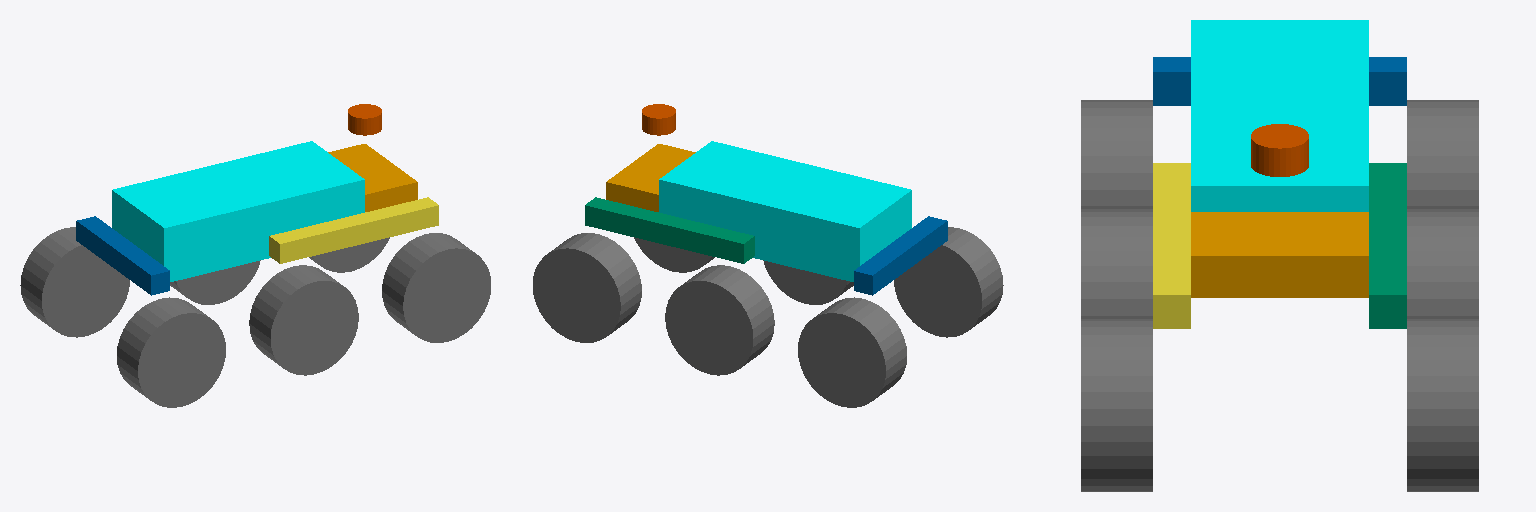
The robot description file, URDF, robot "rover":
<?xml version="1.0" ?>
<!-- =================================================================================== -->
<!-- |    This document was autogenerated by xacro from rover_description.urdf         | -->
<!-- |    EDITING THIS FILE BY HAND IS NOT RECOMMENDED                                 | -->
<!-- =================================================================================== -->
<robot name="rover">
  <!-- Robot Base -->
  <link name="base_link">
    <origin rpy="0.0 0.0 0.0" xyz="0.0 0.0 0.0"/>
    <visual>
      <origin rpy="0.0 0.0 0.0" xyz="-0.06 0.0 0.0"/>
      <geometry>
        <box size="0.68 0.31 0.18"/>
      </geometry>
      <material name="Cyan">
        <color rgba="0 1.0 1.0 1.0"/>
      </material>
    </visual>
    <visual>
      <origin rpy="0.0 0.0 0.0" xyz="0.37 0.0 0.0"/>
      <geometry>
        <box size="0.18 0.31 0.08"/>
      </geometry>
    </visual>
    <collision>
      <origin rpy="0.0 0.0 0.0" xyz="-0.06 0.0 0.0"/>
      <geometry>
        <box size="0.68 0.31 0.18"/>
      </geometry>
    </collision>
    <collision>
      <origin rpy="0.0 0.0 0.0" xyz="0.37 0.0 0.0"/>
      <geometry>
        <box size="0.18 0.31 0.08"/>
      </geometry>
    </collision>
    <inertial>
      <origin rpy="1.5707963267948966 0 1.5707963267948966" xyz="-0.06 0 0"/>
      <mass value="15"/>
      <inertia ixx="0.16062500000000002" ixy="0.0" ixz="0.0" iyy="0.6981250000000001" iyz="0.0" izz="0.6185"/>
    </inertial>
    <inertial>
      <origin rpy="1.5707963267948966 0 1.5707963267948966" xyz="0.37 0 0"/>
      <mass value="1"/>
      <inertia ixx="0.008541666666666666" ixy="0.0" ixz="0.0" iyy="0.010708333333333334" iyz="0.0" izz="0.0032333333333333333"/>
    </inertial>
  </link>
  <!-- Robot Footprint -->
  <link name="base_footprint"/>
  <joint name="base_joint" type="fixed">
    <parent link="base_footprint"/>
    <child link="base_link"/>
    <origin rpy="0 0 0" xyz="0.0 0.0 0.4"/>
  </joint>
  <link name="bogey_l_link">
    <visual>
      <origin rpy="0.0 0.0 0.0" xyz="0.0 0.0 0.0"/>
      <geometry>
        <box size="0.54 0.065 0.065"/>
      </geometry>
    </visual>
    <collision>
      <origin rpy="0.0 0.0 0.0" xyz="0.0 0.0 0.0"/>
      <geometry>
        <box size="0.54 0.065 0.065"/>
      </geometry>
    </collision>
    <inertial>
      <origin rpy="1.5707963267948966 0 1.5707963267948966" xyz="0 0 0"/>
      <mass value="1"/>
      <inertia ixx="0.02465208333333333" ixy="0.0" ixz="0.0" iyy="0.02465208333333333" iyz="0.0" izz="0.0007041666666666667"/>
    </inertial>
  </link>
  <joint name="bogey_l_joint" type="fixed">
    <!-- <limit effort="1000.0" lower="-0.5" upper="0.5" velocity="0.5"/> -->
    <parent link="base_link"/>
    <child link="bogey_l_link"/>
    <origin rpy="0.0 0.0 0.0" xyz="0.225 0.1875 -0.05"/>
    <axis xyz="0 1 0"/>
  </joint>
  <link name="bogey_r_link">
    <visual>
      <origin rpy="0.0 0.0 0.0" xyz="0.0 0.0 0.0"/>
      <geometry>
        <box size="0.54 0.065 0.065"/>
      </geometry>
    </visual>
    <collision>
      <origin rpy="0.0 0.0 0.0" xyz="0.0 0.0 0.0"/>
      <geometry>
        <box size="0.54 0.065 0.065"/>
      </geometry>
    </collision>
    <inertial>
      <origin rpy="1.5707963267948966 0 1.5707963267948966" xyz="0 0 0"/>
      <mass value="1"/>
      <inertia ixx="0.02465208333333333" ixy="0.0" ixz="0.0" iyy="0.02465208333333333" iyz="0.0" izz="0.0007041666666666667"/>
    </inertial>
  </link>
  <joint name="bogey_r_joint" type="fixed">
    <!-- <limit effort="1000.0" lower="-0.5" upper="0.5" velocity="0.5"/> -->
    <parent link="base_link"/>
    <child link="bogey_r_link"/>
    <origin rpy="0.0 0.0 0.0" xyz="0.225 -0.1875 -0.05"/>
    <axis xyz="0 1 0"/>
  </joint>
  <link name="bogey_b_link">
    <visual>
      <origin rpy="0.0 0.0 0.0" xyz="0.0 0.0 0.0"/>
      <geometry>
        <box size="0.065 0.44 0.065"/>
      </geometry>
    </visual>
    <collision>
      <origin rpy="0.0 0.0 0.0" xyz="0.0 0.0 0.0"/>
      <geometry>
        <box size="0.065 0.375 0.065"/>
      </geometry>
    </collision>
    <inertial>
      <origin rpy="1.5707963267948966 0 1.5707963267948966" xyz="0 0 0"/>
      <mass value="1"/>
      <inertia ixx="0.0007041666666666667" ixy="0.0" ixz="0.0" iyy="0.016485416666666666" iyz="0.0" izz="0.016485416666666666"/>
    </inertial>
  </link>
  <joint name="bogey_b_joint" type="fixed">
    <parent link="base_link"/>
    <child link="bogey_b_link"/>
    <origin rpy="0.0 0.0 0.0" xyz="-0.45 0.0 -0.05"/>
  </joint>
  <link name="wheel_l_f_link">
    <visual>
      <origin rpy="1.5707963267948966 0 0" xyz="0 0 0"/>
      <geometry>
        <cylinder length="0.125" radius="0.15"/>
      </geometry>
      <material name="Gray">
        <color rgba="0.5 0.5 0.5 1.0"/>
      </material>
    </visual>
    <collision>
      <origin rpy="1.5707963267948966 0 0" xyz="0 0 0"/>
      <geometry>
        <cylinder length="0.125" radius="0.15"/>
      </geometry>
    </collision>
    <inertial>
      <origin rpy="1.5707963267948966 0 0" xyz="0 0 0"/>
      <mass value="1"/>
      <inertia ixx="0.006927083333333332" ixy="0" ixz="0" iyy="0.006927083333333332" iyz="0" izz="0.01125"/>
    </inertial>
  </link>
  <joint name="wheel_l_f_joint" type="continuous">
    <parent link="bogey_l_link"/>
    <child link="wheel_l_f_link"/>
    <origin rpy="0 0 0" xyz="0.225 0.095 -0.2"/>
    <axis xyz="0 1 0"/>
  </joint>
  <link name="wheel_l_m_link">
    <visual>
      <origin rpy="1.5707963267948966 0 0" xyz="0 0 0"/>
      <geometry>
        <cylinder length="0.125" radius="0.15"/>
      </geometry>
      <material name="Gray">
        <color rgba="0.5 0.5 0.5 1.0"/>
      </material>
    </visual>
    <collision>
      <origin rpy="1.5707963267948966 0 0" xyz="0 0 0"/>
      <geometry>
        <cylinder length="0.125" radius="0.15"/>
      </geometry>
    </collision>
    <inertial>
      <origin rpy="1.5707963267948966 0 0" xyz="0 0 0"/>
      <mass value="1"/>
      <inertia ixx="0.006927083333333332" ixy="0" ixz="0" iyy="0.006927083333333332" iyz="0" izz="0.01125"/>
    </inertial>
  </link>
  <joint name="wheel_l_m_joint" type="continuous">
    <parent link="bogey_l_link"/>
    <child link="wheel_l_m_link"/>
    <origin rpy="0 0 0" xyz="-0.225 0.095 -0.2"/>
    <axis xyz="0 1 0"/>
  </joint>
  <link name="wheel_l_b_link">
    <visual>
      <origin rpy="1.5707963267948966 0 0" xyz="0 0 0"/>
      <geometry>
        <cylinder length="0.125" radius="0.15"/>
      </geometry>
      <material name="Gray">
        <color rgba="0.5 0.5 0.5 1.0"/>
      </material>
    </visual>
    <collision>
      <origin rpy="1.5707963267948966 0 0" xyz="0 0 0"/>
      <geometry>
        <cylinder length="0.125" radius="0.15"/>
      </geometry>
    </collision>
    <inertial>
      <origin rpy="1.5707963267948966 0 0" xyz="0 0 0"/>
      <mass value="1"/>
      <inertia ixx="0.006927083333333332" ixy="0" ixz="0" iyy="0.006927083333333332" iyz="0" izz="0.01125"/>
    </inertial>
  </link>
  <joint name="wheel_l_b_joint" type="continuous">
    <parent link="bogey_b_link"/>
    <child link="wheel_l_b_link"/>
    <origin rpy="0 0 0" xyz="0 0.2825 -0.2"/>
    <axis xyz="0 1 0"/>
  </joint>
  <link name="wheel_r_f_link">
    <visual>
      <origin rpy="1.5707963267948966 0 0" xyz="0 0 0"/>
      <geometry>
        <cylinder length="0.125" radius="0.15"/>
      </geometry>
      <material name="Gray">
        <color rgba="0.5 0.5 0.5 1.0"/>
      </material>
    </visual>
    <collision>
      <origin rpy="1.5707963267948966 0 0" xyz="0 0 0"/>
      <geometry>
        <cylinder length="0.125" radius="0.15"/>
      </geometry>
    </collision>
    <inertial>
      <origin rpy="1.5707963267948966 0 0" xyz="0 0 0"/>
      <mass value="1"/>
      <inertia ixx="0.006927083333333332" ixy="0" ixz="0" iyy="0.006927083333333332" iyz="0" izz="0.01125"/>
    </inertial>
  </link>
  <joint name="wheel_r_f_joint" type="continuous">
    <parent link="bogey_r_link"/>
    <child link="wheel_r_f_link"/>
    <origin rpy="0 0 0" xyz="0.225 -0.095 -0.2"/>
    <axis xyz="0 1 0"/>
  </joint>
  <link name="wheel_r_m_link">
    <visual>
      <origin rpy="1.5707963267948966 0 0" xyz="0 0 0"/>
      <geometry>
        <cylinder length="0.125" radius="0.15"/>
      </geometry>
      <material name="Gray">
        <color rgba="0.5 0.5 0.5 1.0"/>
      </material>
    </visual>
    <collision>
      <origin rpy="1.5707963267948966 0 0" xyz="0 0 0"/>
      <geometry>
        <cylinder length="0.125" radius="0.15"/>
      </geometry>
    </collision>
    <inertial>
      <origin rpy="1.5707963267948966 0 0" xyz="0 0 0"/>
      <mass value="1"/>
      <inertia ixx="0.006927083333333332" ixy="0" ixz="0" iyy="0.006927083333333332" iyz="0" izz="0.01125"/>
    </inertial>
  </link>
  <joint name="wheel_r_m_joint" type="continuous">
    <parent link="bogey_r_link"/>
    <child link="wheel_r_m_link"/>
    <origin rpy="0 0 0" xyz="-0.225 -0.095 -0.2"/>
    <axis xyz="0 1 0"/>
  </joint>
  <link name="wheel_r_b_link">
    <visual>
      <origin rpy="1.5707963267948966 0 0" xyz="0 0 0"/>
      <geometry>
        <cylinder length="0.125" radius="0.15"/>
      </geometry>
      <material name="Gray">
        <color rgba="0.5 0.5 0.5 1.0"/>
      </material>
    </visual>
    <collision>
      <origin rpy="1.5707963267948966 0 0" xyz="0 0 0"/>
      <geometry>
        <cylinder length="0.125" radius="0.15"/>
      </geometry>
    </collision>
    <inertial>
      <origin rpy="1.5707963267948966 0 0" xyz="0 0 0"/>
      <mass value="1"/>
      <inertia ixx="0.006927083333333332" ixy="0" ixz="0" iyy="0.006927083333333332" iyz="0" izz="0.01125"/>
    </inertial>
  </link>
  <joint name="wheel_r_b_joint" type="continuous">
    <parent link="bogey_b_link"/>
    <child link="wheel_r_b_link"/>
    <origin rpy="0 0 0" xyz="0 -0.2825 -0.2"/>
    <axis xyz="0 1 0"/>
  </joint>
  <link name="os_sensor"/>
  <joint name="sensor_joint" type="fixed">
    <parent link="base_link"/>
    <child link="os_sensor"/>
    <origin xyz="0.37 0 0.12"/>
  </joint>
  <link name="os_imu"/>
  <joint name="imu_joint" type="fixed">
    <parent link="base_link"/>
    <child link="os_imu"/>
    <origin xyz="0.37 0 0.12"/>
  </joint>
  <link name="os_lidar">
    <inertial>
      <origin rpy="0 0 0" xyz="0 0 0"/>
      <mass value="0.125"/>
      <inertia ixx="0.001" ixy="0" ixz="0" iyy="0.001" iyz="0" izz="0.001"/>
    </inertial>
    <collision>
      <origin rpy="0 0 0" xyz="0 0 0"/>
      <geometry>
        <cylinder length="0.055" radius="0.0508"/>
      </geometry>
    </collision>
    <visual>
      <origin rpy="0 0 0" xyz="0 0 0"/>
      <geometry>
        <cylinder length="0.055" radius="0.0508"/>
      </geometry>
    </visual>
  </link>
  <joint name="lidar_joint" type="fixed">
    <parent link="base_link"/>
    <child link="os_lidar"/>
    <origin rpy="0 0 0" xyz="0.37 0 0.2"/>
  </joint>
  <link name="gps_link">
    <visual>
      <geometry>
        <box size="0.1 0.1 0.1"/>
      </geometry>
    </visual>
    <collision>
      <geometry>
        <box size="0.1 0.1 0.1"/>
      </geometry>
    </collision>
    <inertial>
      <origin rpy="1.5707963267948966 0 1.5707963267948966" xyz="0 0 0"/>
      <mass value="0.1"/>
      <inertia ixx="0.0001666666666666667" ixy="0.0" ixz="0.0" iyy="0.0001666666666666667" iyz="0.0" izz="0.0001666666666666667"/>
    </inertial>
  </link>
  <joint name="gps_joint" type="fixed">
    <parent link="base_link"/>
    <child link="gps_link"/>
    <origin rpy="0 0 0" xyz="0 0 0"/>
  </joint>
</robot>

--- What the picture shows (computed from the rendered views, not written in the file) ---
Views: 3 orthographic renders of the robot side by side, from view 1: azimuth 30°, elevation 25°; view 2: azimuth 150°, elevation 25°; view 3: azimuth 270°, elevation 25°.
Robot: rover — 15 links, 14 joints (6 continuous, 8 fixed); root link base_footprint; default pose: all joints at 0.
Links seen in each view (by area): view 1: base_link, wheel_r_b_link, wheel_r_m_link, wheel_r_f_link, wheel_l_b_link, bogey_r_link, bogey_b_link, wheel_l_m_link, wheel_l_f_link, os_lidar; view 2: base_link, wheel_l_b_link, wheel_l_m_link, wheel_l_f_link, wheel_r_b_link, bogey_l_link, bogey_b_link, wheel_r_m_link, wheel_r_f_link, os_lidar; view 3: base_link, wheel_l_f_link, wheel_r_f_link, wheel_l_m_link, wheel_r_m_link, wheel_l_b_link, wheel_r_b_link, bogey_l_link, bogey_r_link, bogey_b_link, os_lidar.
Link boxes in pixels (left/top/right/bottom): base_link: left=112, top=141, right=417, bottom=281; wheel_r_b_link: left=117, top=297, right=225, bottom=407; wheel_r_m_link: left=249, top=265, right=358, bottom=375; wheel_r_f_link: left=382, top=233, right=490, bottom=342; wheel_l_b_link: left=20, top=227, right=129, bottom=337; bogey_r_link: left=269, top=197, right=438, bottom=263; bogey_b_link: left=76, top=216, right=169, bottom=295; wheel_l_m_link: left=170, top=260, right=260, bottom=304; wheel_l_f_link: left=309, top=237, right=389, bottom=272; os_lidar: left=348, top=104, right=381, bottom=135; base_link: left=606, top=141, right=911, bottom=281; wheel_l_b_link: left=798, top=297, right=906, bottom=407; wheel_l_m_link: left=665, top=265, right=774, bottom=375; wheel_l_f_link: left=533, top=233, right=641, bottom=342; wheel_r_b_link: left=894, top=227, right=1003, bottom=337; bogey_l_link: left=585, top=197, right=754, bottom=263; bogey_b_link: left=854, top=216, right=947, bottom=295; wheel_r_m_link: left=763, top=260, right=853, bottom=304; wheel_r_f_link: left=634, top=237, right=714, bottom=272; os_lidar: left=642, top=104, right=675, bottom=135; base_link: left=1191, top=20, right=1368, bottom=297; wheel_l_f_link: left=1407, top=319, right=1478, bottom=491; wheel_r_f_link: left=1081, top=319, right=1152, bottom=491; wheel_l_m_link: left=1407, top=209, right=1478, bottom=318; wheel_r_m_link: left=1081, top=209, right=1152, bottom=318; wheel_l_b_link: left=1407, top=100, right=1478, bottom=208; wheel_r_b_link: left=1081, top=100, right=1152, bottom=208; bogey_l_link: left=1369, top=163, right=1406, bottom=328; bogey_r_link: left=1153, top=163, right=1190, bottom=328; bogey_b_link: left=1153, top=57, right=1406, bottom=105; os_lidar: left=1251, top=124, right=1308, bottom=176.
Size in the robot's own frame: 1.2 by 0.69 by 0.6275 metres.
Geometry: primitives only (box / cylinder / sphere), no mesh files.